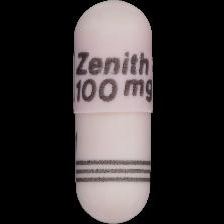50436-6591: (0, 0, 224, 224)
